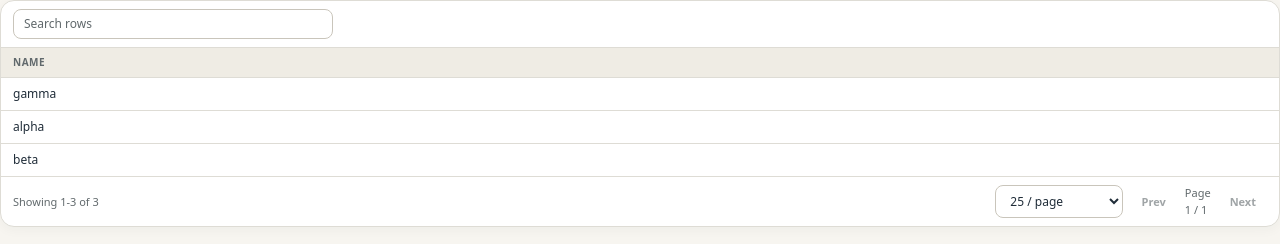
DataTable › filters rows via the built-in search field
Type "bet" into the field with placeholder "Search rows" at [173, 24], box x1=13 y1=9 x2=333 y2=39
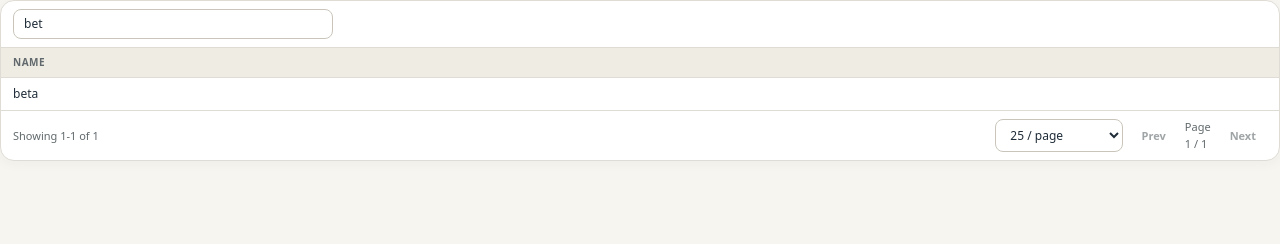
Expected: the text "beta" is shown, x1=13 y1=85 x2=38 y2=102
Expected: the text "alpha" is gone
Expected: the text "gamma" is gone
